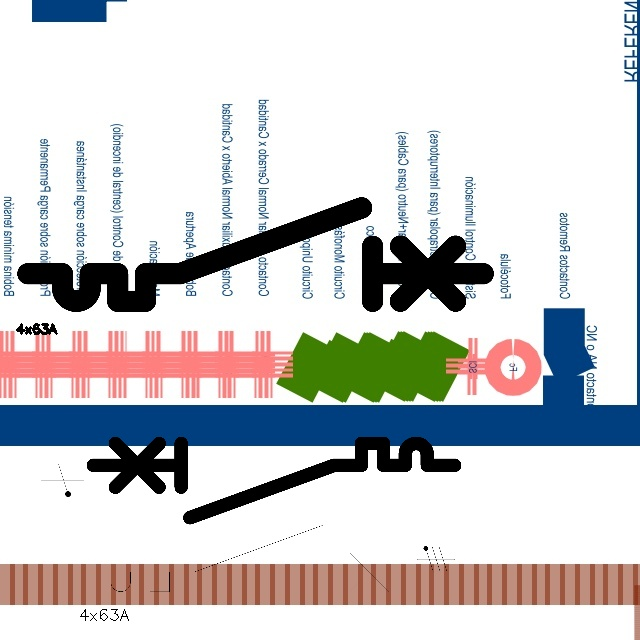interruptor_termomagnetico: (16, 196, 494, 313), (84, 434, 464, 527), (78, 517, 417, 600)
